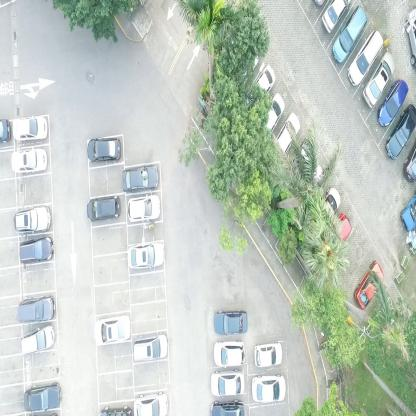car: (346, 29, 384, 88), (330, 5, 367, 62), (363, 48, 396, 106), (385, 103, 416, 159), (311, 184, 342, 237), (377, 78, 408, 130), (320, 214, 352, 260), (353, 261, 383, 310), (17, 292, 56, 326), (271, 115, 300, 158), (249, 63, 276, 109), (22, 381, 62, 412), (95, 313, 132, 346), (258, 92, 285, 136), (132, 332, 168, 364), (14, 202, 51, 232), (128, 238, 165, 268), (20, 233, 54, 264), (20, 324, 55, 354), (86, 194, 121, 224), (10, 147, 48, 174), (127, 193, 160, 224), (209, 369, 244, 398), (13, 115, 48, 143), (321, 0, 351, 32), (87, 135, 122, 162), (252, 374, 286, 401), (134, 390, 170, 415), (214, 339, 247, 366), (214, 308, 248, 334), (122, 167, 158, 190), (254, 339, 283, 366), (404, 6, 416, 70), (400, 193, 416, 232), (210, 400, 246, 416), (403, 138, 415, 183), (100, 403, 132, 415), (0, 118, 10, 144)
